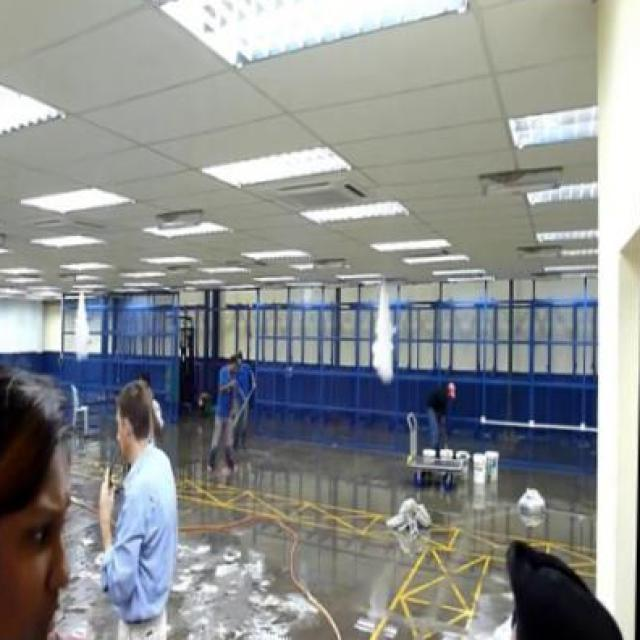fire: (366, 278, 397, 391), (66, 290, 96, 368)
